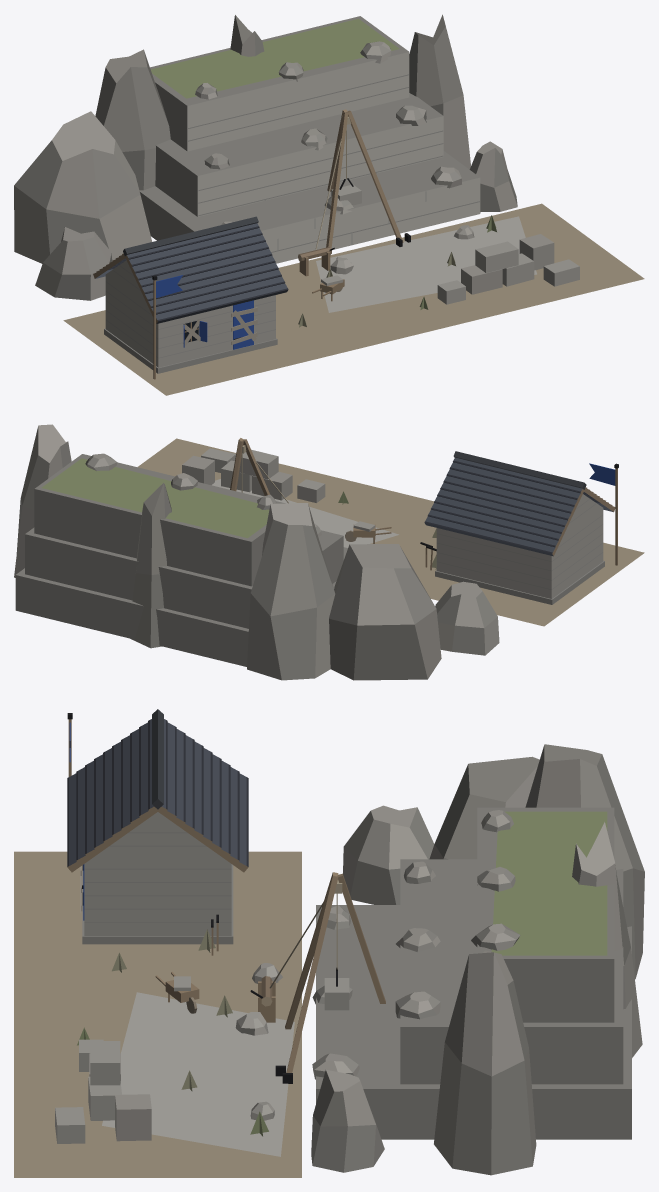
File: steinbruch.glb
3 renders of one model, top to bottom at view 1: azimuth 30°, elevation 25°; view 2: azimuth 150°, elevation 25°; view 3: azimuth 270°, elevation 25°, orthographic. The views are drawn at different scales.
Visible parts, largest first — view 1: Haus, Arbeit, Leerstand, Fahne; view 2: Haus, Arbeit, Fahne; view 3: Haus, Arbeit, Leerstand.
Part boxes in pixels (<box>): Haus: <box>14,14,644,395</box>; Arbeit: <box>298,109,579,304</box>; Leerstand: <box>182,215,496,345</box>; Fahne: <box>152,275,182,379</box>; Haus: <box>14,424,644,680</box>; Arbeit: <box>182,438,436,570</box>; Fahne: <box>589,463,618,565</box>; Haus: <box>14,709,644,1177</box>; Arbeit: <box>55,872,385,1143</box>; Leerstand: <box>77,866,268,1136</box>.
Bounding box in the file's own units: 22 × 7.01 × 17.97.
